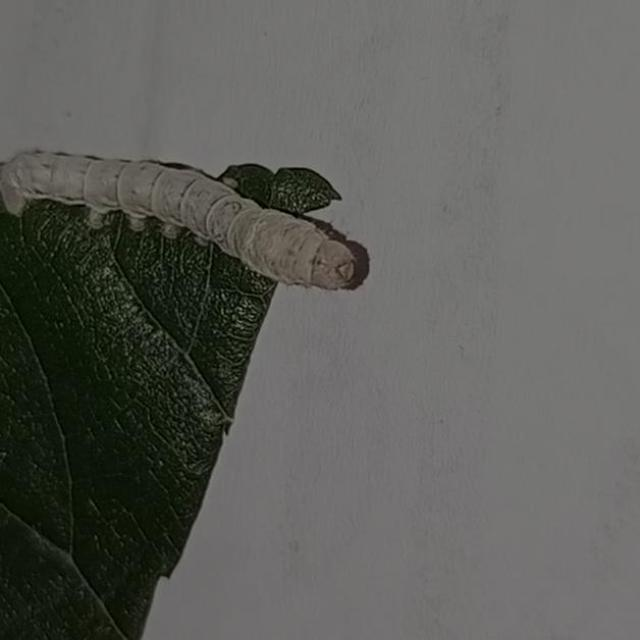Healthy: (0, 128, 380, 316)
